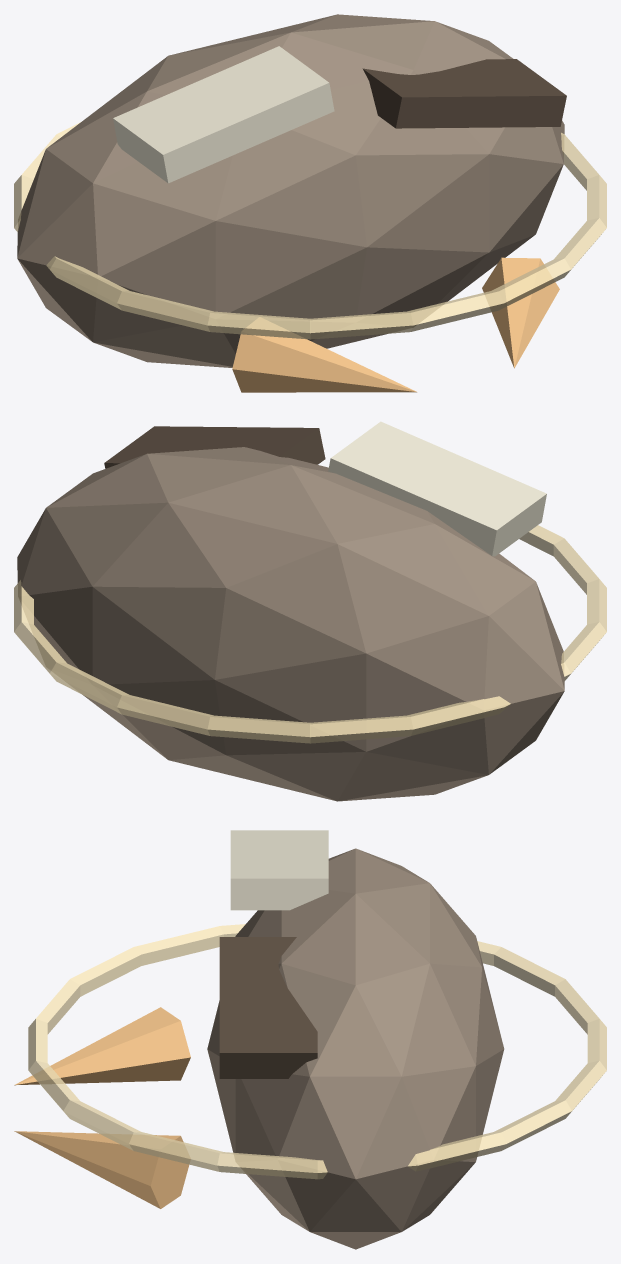
Rendered from 02_monster_skin_attachment.glb.
3 views of the same model, one above another, from view 1: azimuth 30°, elevation 25°; view 2: azimuth 150°, elevation 25°; view 3: azimuth 270°, elevation 25° (orthographic). The views are drawn at different scales.
Parts seen in each view (by area): view 1: skin_variant_body_proxy, armor_or_hide_patch_a, spawn_uniqueness_ring, armor_or_hide_patch_b, variant_horn_l, variant_horn_r; view 2: skin_variant_body_proxy, spawn_uniqueness_ring, armor_or_hide_patch_a, armor_or_hide_patch_b; view 3: skin_variant_body_proxy, spawn_uniqueness_ring, armor_or_hide_patch_b, armor_or_hide_patch_a, variant_horn_l, variant_horn_r.
Boxes of the visible parts, bbox=[...] form: skin_variant_body_proxy: bbox=[17, 14, 564, 367]; armor_or_hide_patch_a: bbox=[113, 46, 334, 183]; spawn_uniqueness_ring: bbox=[14, 122, 606, 339]; armor_or_hide_patch_b: bbox=[362, 59, 566, 128]; variant_horn_l: bbox=[232, 318, 417, 392]; variant_horn_r: bbox=[482, 257, 559, 368]; skin_variant_body_proxy: bbox=[17, 447, 564, 801]; spawn_uniqueness_ring: bbox=[14, 525, 606, 743]; armor_or_hide_patch_a: bbox=[328, 421, 546, 556]; armor_or_hide_patch_b: bbox=[104, 426, 325, 468]; skin_variant_body_proxy: bbox=[207, 848, 504, 1249]; spawn_uniqueness_ring: bbox=[28, 924, 606, 1179]; armor_or_hide_patch_b: bbox=[219, 937, 317, 1078]; armor_or_hide_patch_a: bbox=[230, 830, 328, 910]; variant_horn_l: bbox=[14, 1007, 190, 1085]; variant_horn_r: bbox=[14, 1131, 189, 1208].
Size of the model in its own units: 1.13 by 0.6358 by 1.09.
